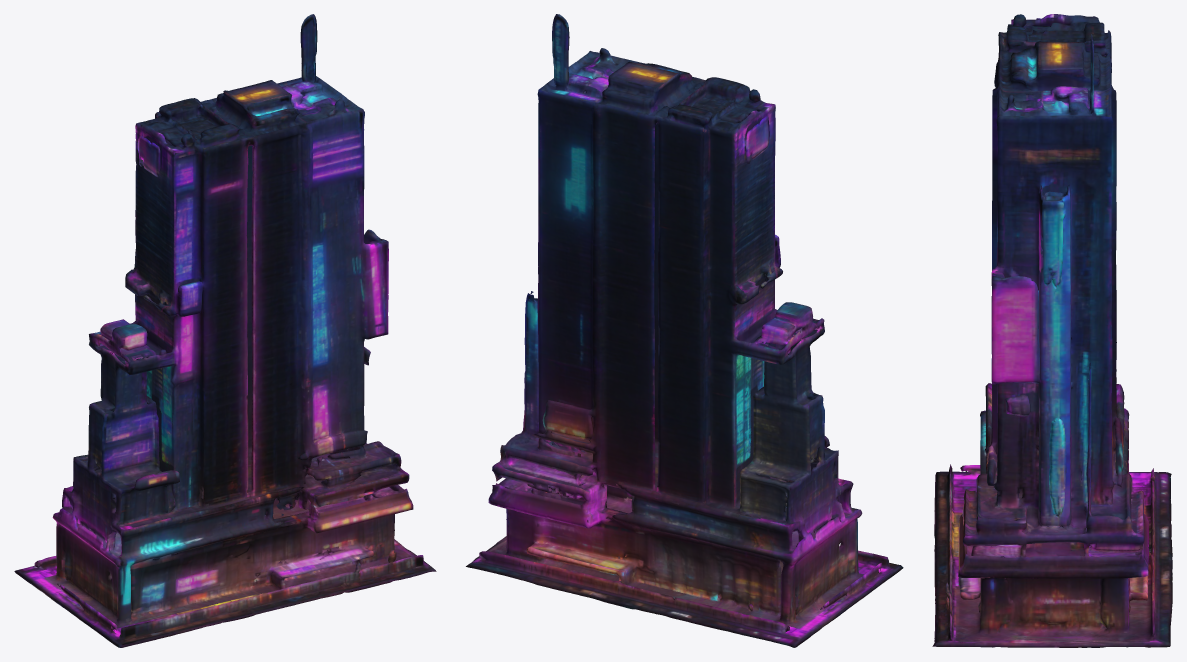
Rendered from Subject_100_story_me_0213120659.fbx.
3 views of the same model, side by side, from view 1: azimuth 30°, elevation 25°; view 2: azimuth 150°, elevation 25°; view 3: azimuth 270°, elevation 25° (orthographic). The views are drawn at different scales.
Parts seen in each view (by area): view 1: Mesh_0; view 2: Mesh_0; view 3: Mesh_0.
Part boxes in pixels (box(x1,y1,x2,y2)): Mesh_0: box(14, 14, 436, 647); Mesh_0: box(466, 14, 903, 647); Mesh_0: box(932, 14, 1172, 647).
Bounding box in the file's own units: 129 × 201 × 75.05.
1 material, 1 textured.
